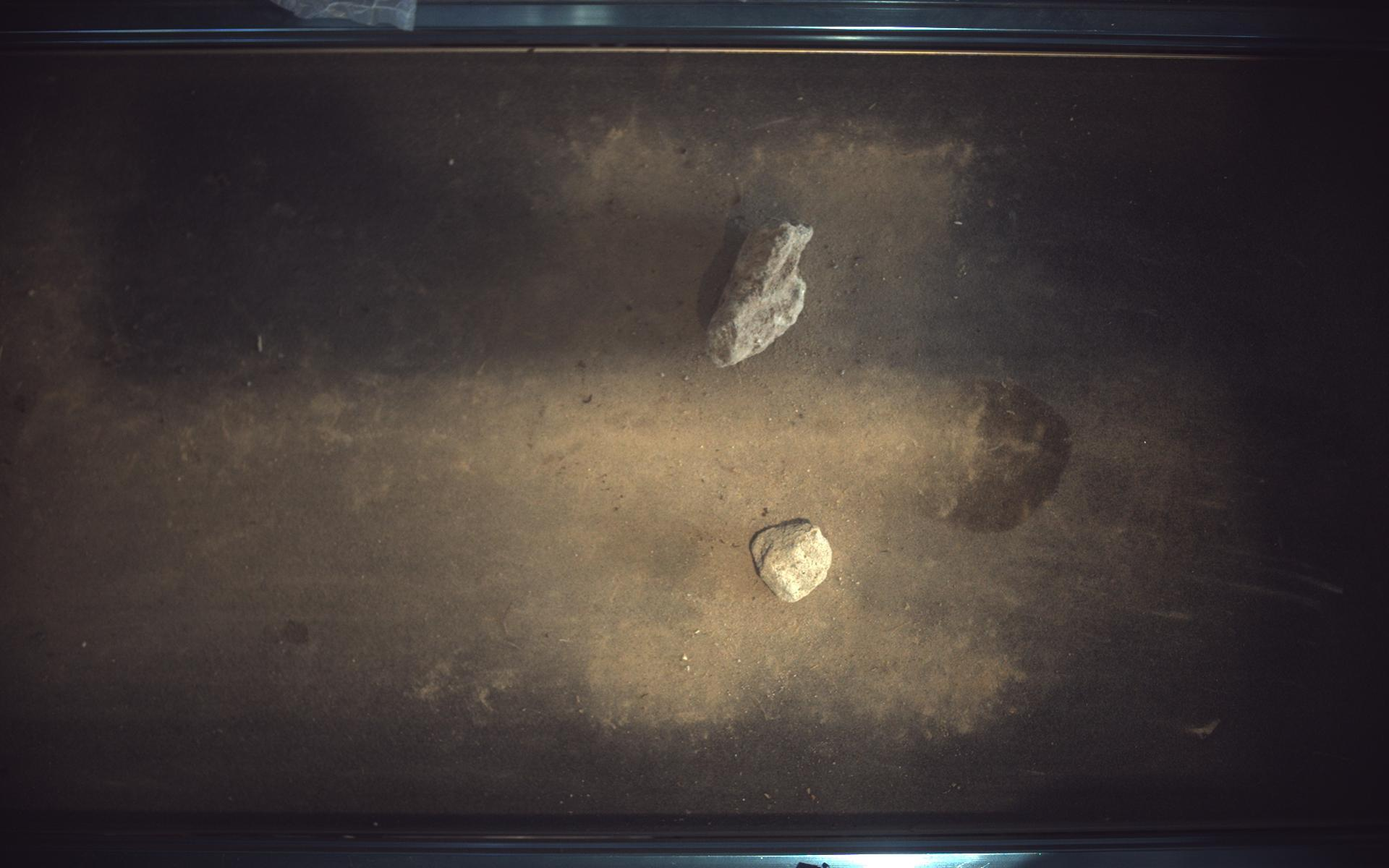stone: (708, 222, 815, 367), (752, 519, 833, 603)
